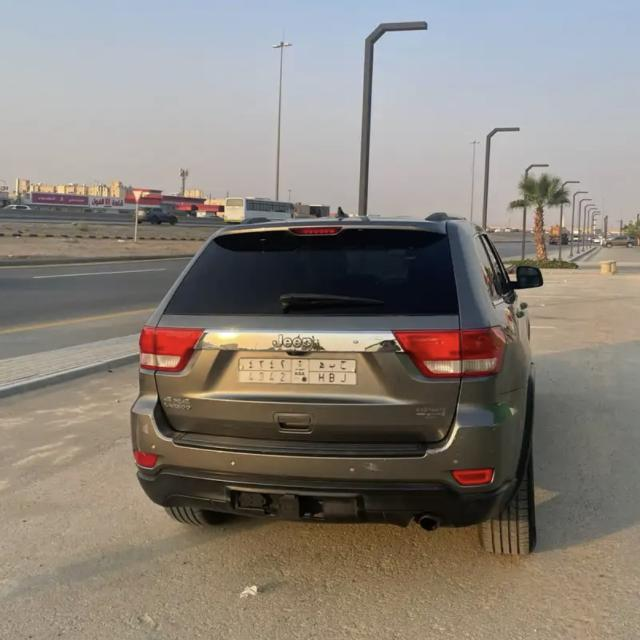license_plate: (236, 356, 359, 388)
